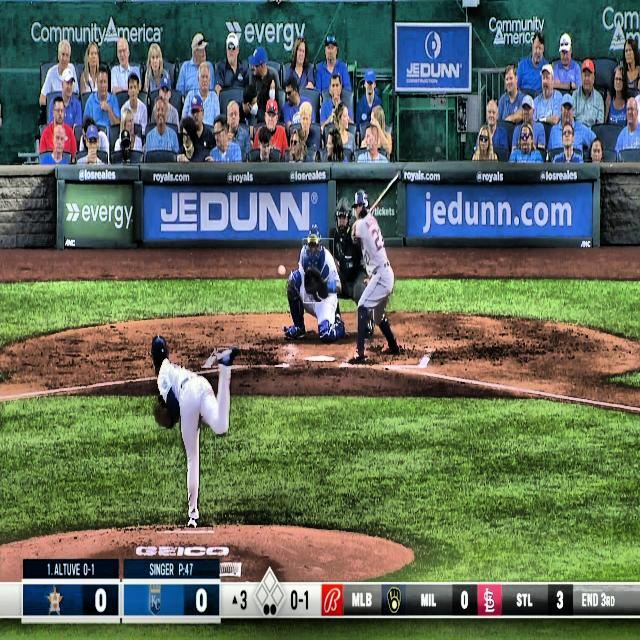baseball: (278, 265, 286, 276)
